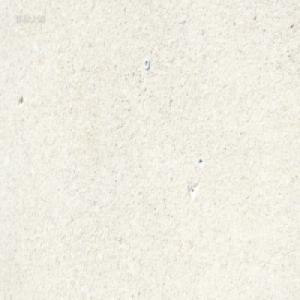Washer: (143, 58, 150, 69)
